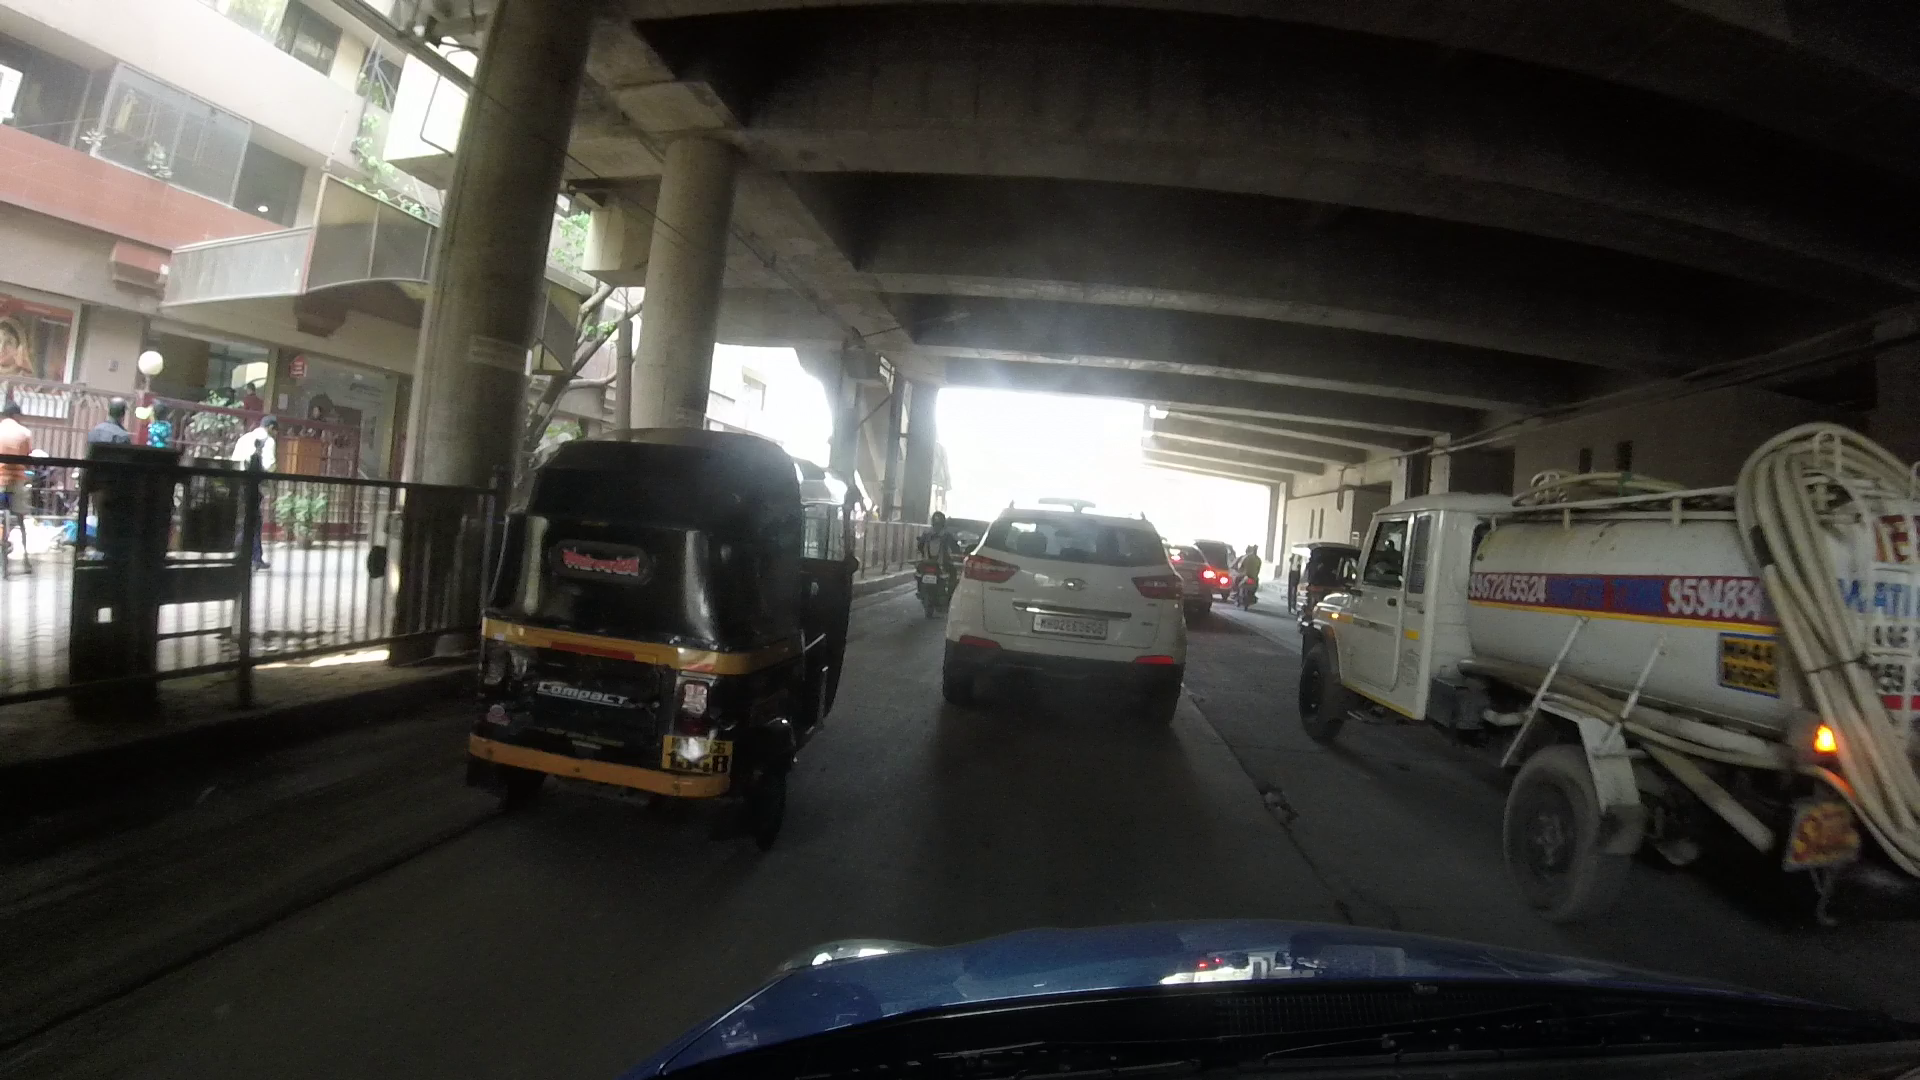bike/scooter: (913, 506, 963, 618), (1237, 546, 1265, 611)
car: (945, 504, 1199, 683), (1166, 545, 1217, 612)
rickshaw: (487, 421, 862, 832)
truck: (1352, 430, 1920, 916)
